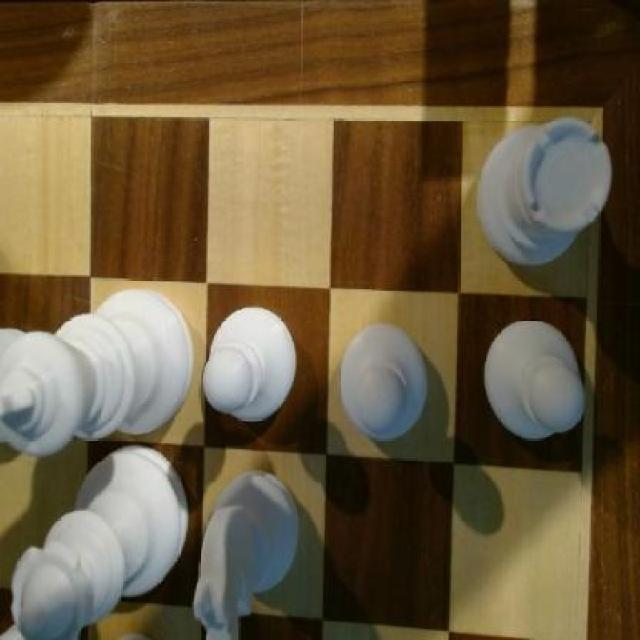white-king: (194, 467, 303, 640)
white-knight: (204, 303, 298, 435), (485, 318, 586, 440), (338, 322, 427, 449)
white-pawn: (11, 447, 190, 640)
white-queen: (476, 121, 616, 277)
